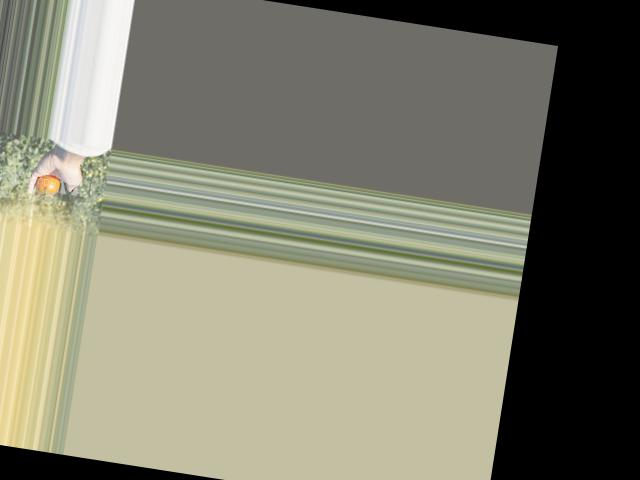tomato: (33, 173, 60, 197)
